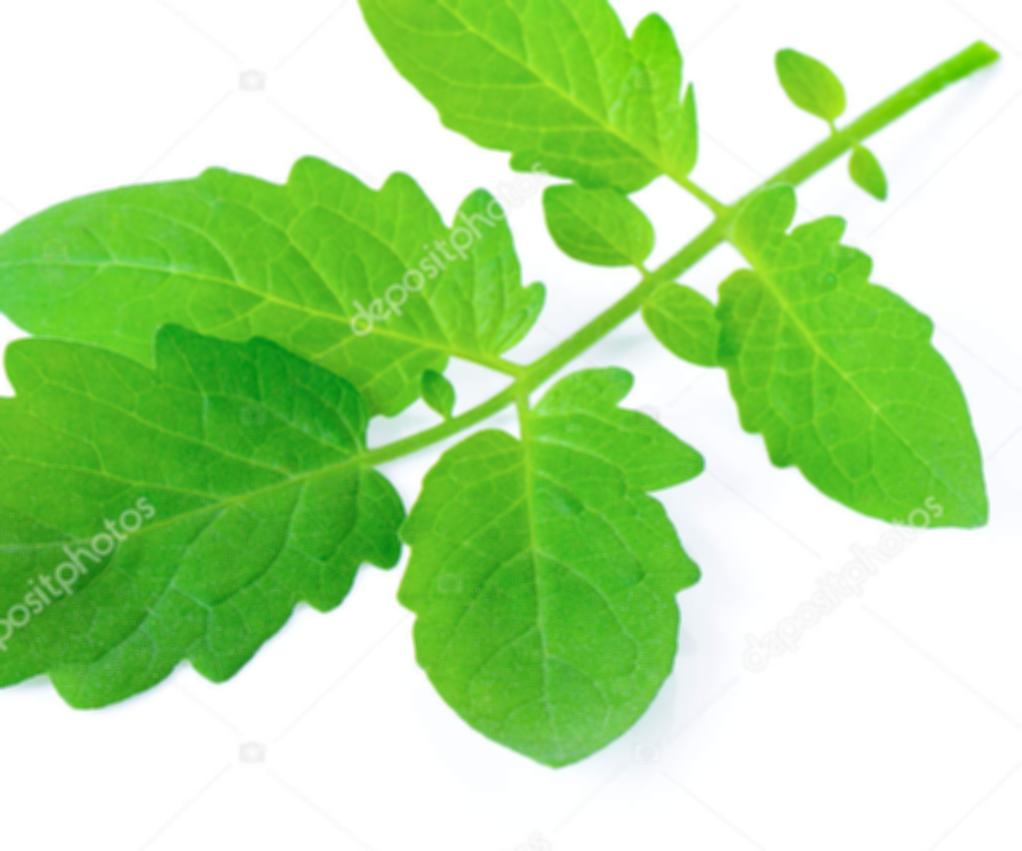Tomato leaf: (0, 139, 554, 447), (0, 330, 398, 711), (380, 358, 712, 792), (703, 203, 1021, 556), (293, 0, 727, 217)
